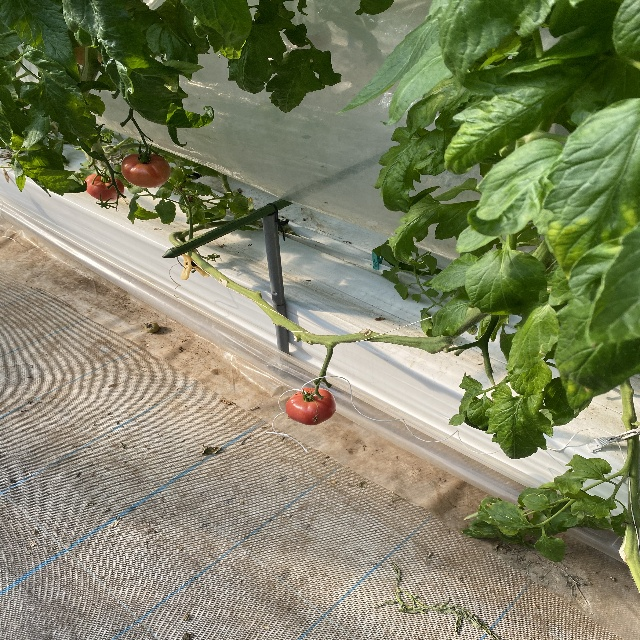b_fully_ripened: (286, 388, 337, 426), (85, 174, 125, 201)
b_half_ripened: (120, 153, 172, 188)
